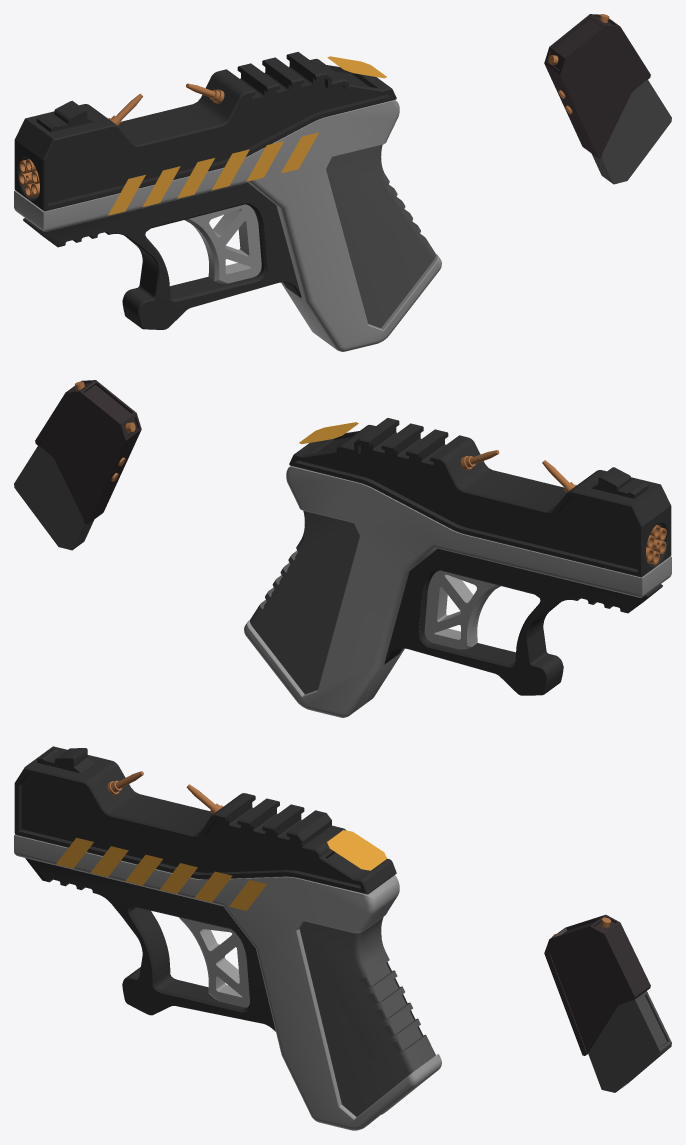
File: EMP2_basic_v001_with_battery.fbx
3 views of the same model, one above another, from view 1: azimuth 30°, elevation 25°; view 2: azimuth 150°, elevation 25°; view 3: azimuth 330°, elevation 25° (orthographic).
Parts seen in each view (by area): view 1: Cap, NR_EMP2, Battery_Clip, Cage, Slice.001, Holos, Trig.001, Arc_Pins, Inductors; view 2: Cap, NR_EMP2, Battery_Clip, Cage, Slice.001, Trig.001, Arc_Pins, Inductors, Holos; view 3: Cap, NR_EMP2, Slice.001, Battery_Clip, Cage, Holos, Trig.001, Arc_Pins.
Boxes of the visible parts, x1=… form: Cap: x1=14, y1=52, x2=396, y2=211; NR_EMP2: x1=14, y1=100, x2=441, y2=351; Battery_Clip: x1=544, y1=14, x2=671, y2=184; Cage: x1=23, y1=182, x2=301, y2=329; Slice.001: x1=326, y1=145, x2=435, y2=328; Holos: x1=108, y1=56, x2=386, y2=215; Trig.001: x1=185, y1=204, x2=261, y2=283; Arc_Pins: x1=108, y1=83, x2=224, y2=125; Inductors: x1=19, y1=159, x2=39, y2=197; Cap: x1=289, y1=418, x2=671, y2=577; NR_EMP2: x1=244, y1=466, x2=671, y2=717; Battery_Clip: x1=14, y1=380, x2=141, y2=550; Cage: x1=384, y1=548, x2=662, y2=695; Slice.001: x1=250, y1=511, x2=359, y2=694; Trig.001: x1=419, y1=570, x2=500, y2=649; Arc_Pins: x1=461, y1=450, x2=576, y2=492; Inductors: x1=645, y1=525, x2=666, y2=564; Holos: x1=299, y1=422, x2=358, y2=444; Cap: x1=14, y1=746, x2=396, y2=894; NR_EMP2: x1=14, y1=834, x2=441, y2=1130; Slice.001: x1=299, y1=917, x2=435, y2=1116; Battery_Clip: x1=544, y1=914, x2=671, y2=1092; Cage: x1=25, y1=858, x2=275, y2=1031; Holos: x1=56, y1=830, x2=386, y2=910; Trig.001: x1=178, y1=917, x2=249, y2=1007; Arc_Pins: x1=107, y1=771, x2=222, y2=813.
Size of the model in its own units: 285 by 128 by 31.57.
